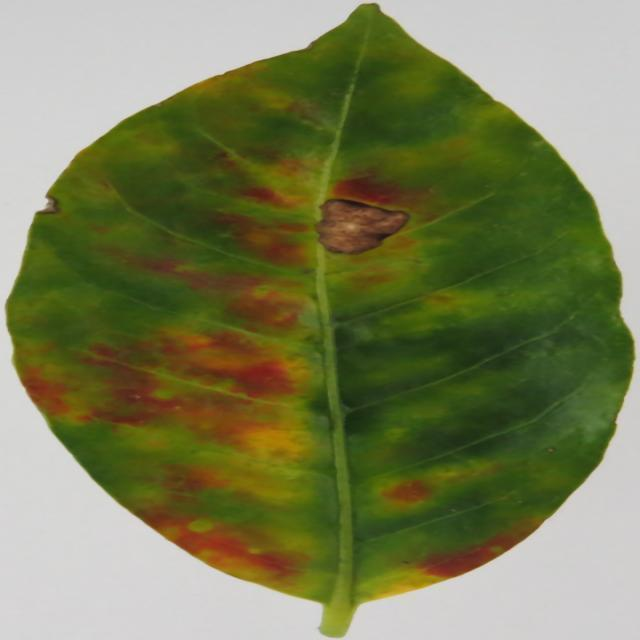DeficienciaNutricional-Fosforo: (10, 5, 630, 636)
